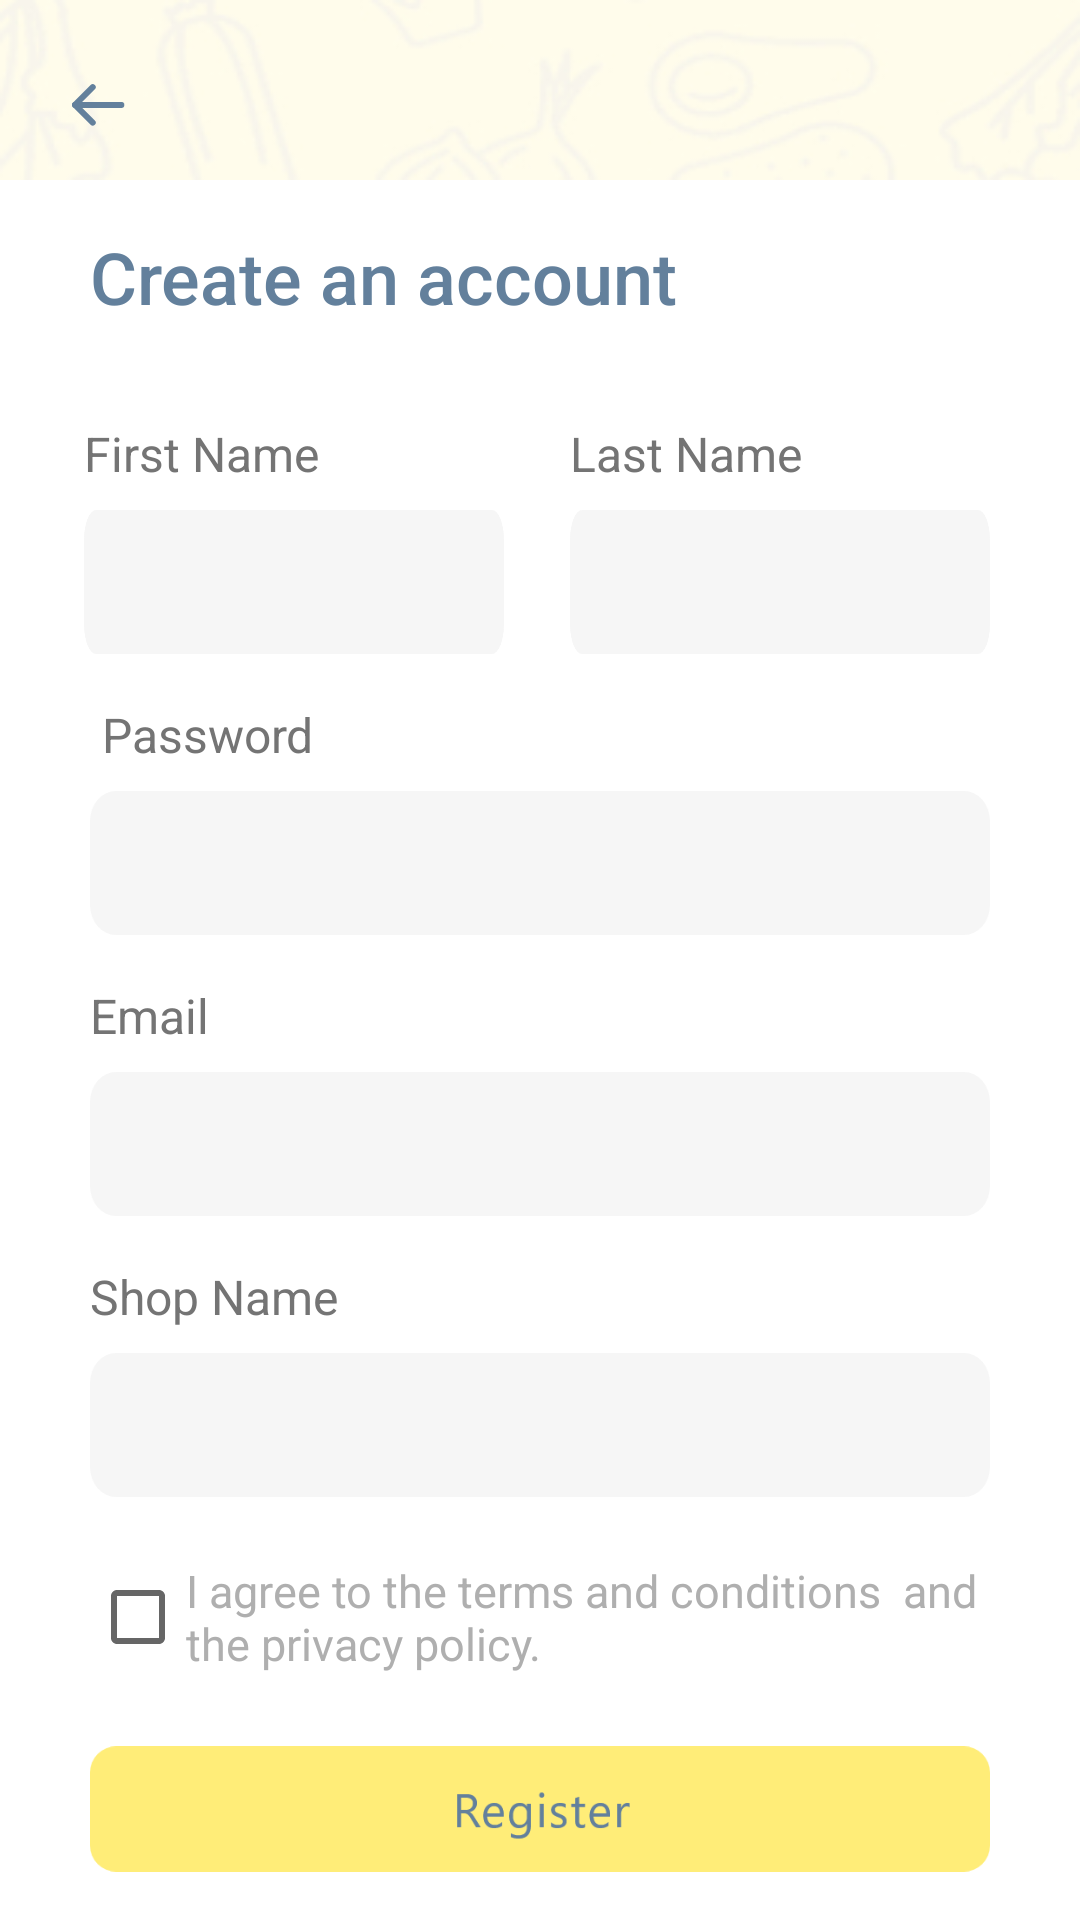

Icon click points for this 1080px x 1920px phone screenshot, format [x,y]:
back: [98,105]
